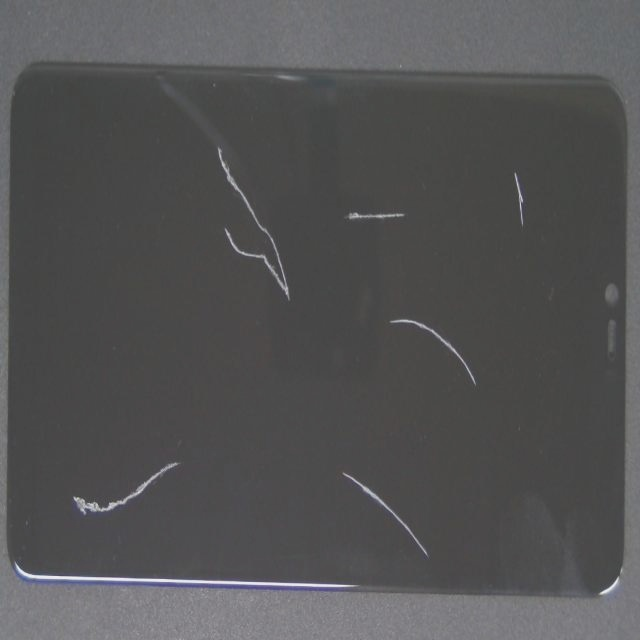scratch: (279, 329, 621, 640), (262, 89, 592, 286)
